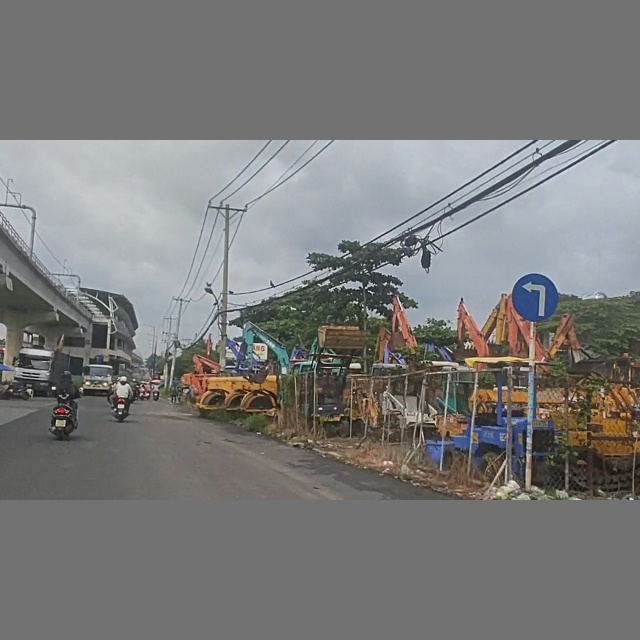R.301e: (512, 273, 559, 322)
